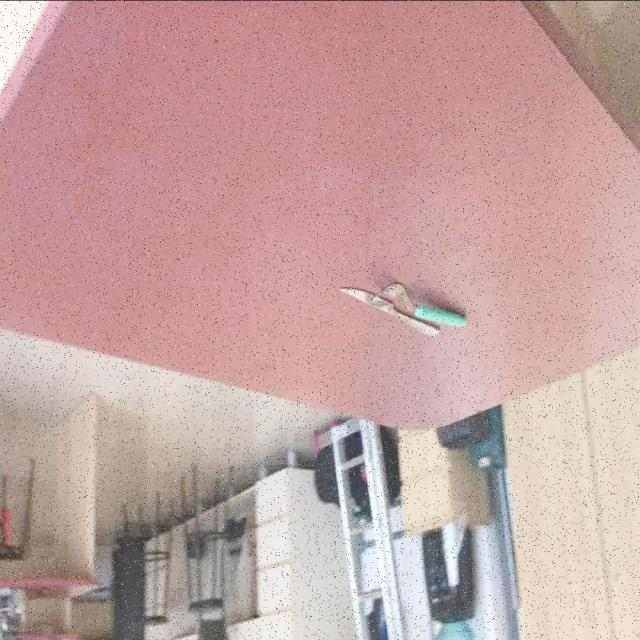Knife: (337, 282, 441, 336), (378, 280, 467, 326)
